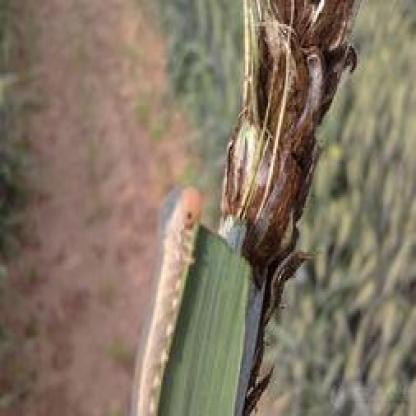sawfly: (133, 185, 205, 416)
